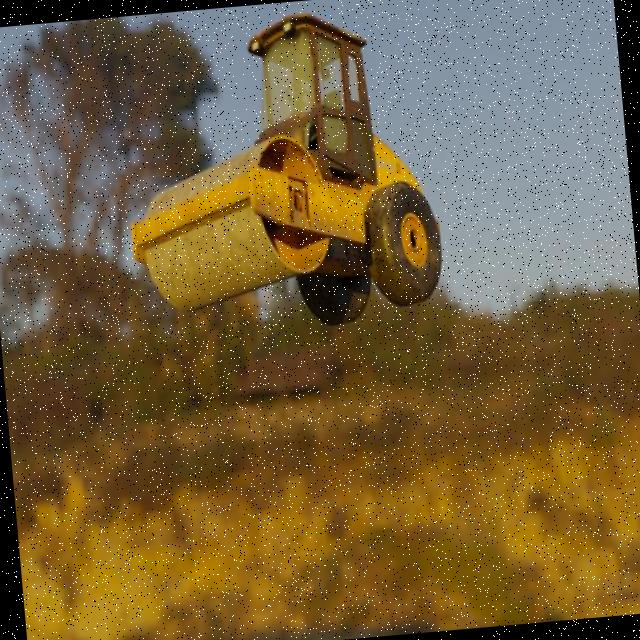Roller: (111, 1, 446, 343)
